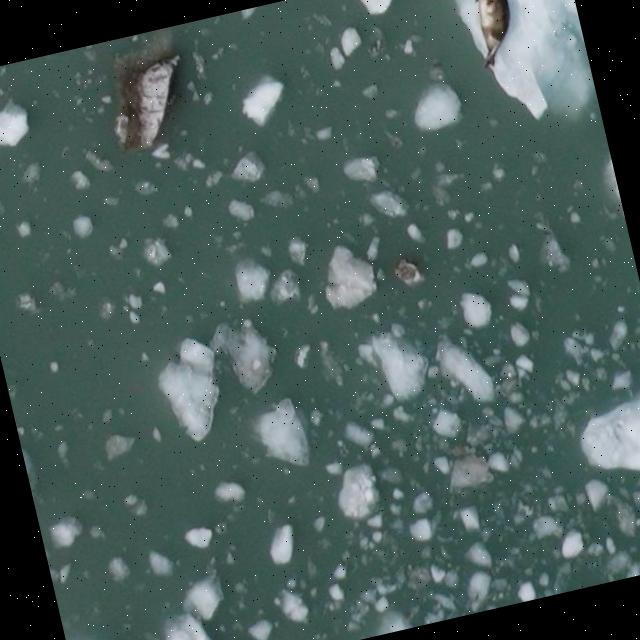seal: (475, 0, 513, 71)
